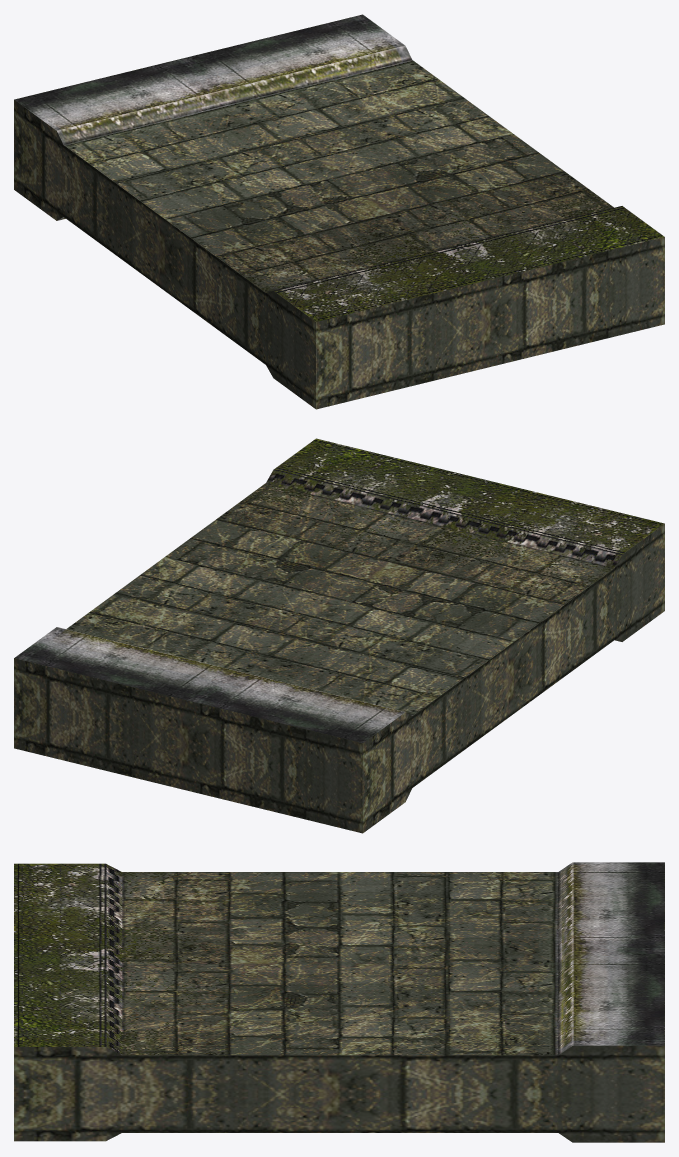
The model's file is Lab_WallLong.gltf.
3 renders of one model, top to bottom at view 1: azimuth 30°, elevation 25°; view 2: azimuth 150°, elevation 25°; view 3: azimuth 270°, elevation 25°, orthographic. The views are drawn at different scales.
Visible parts, largest first — view 1: Lab_WallLong; view 2: Lab_WallLong; view 3: Lab_WallLong.
Boxes of the visible parts, x1,y1,x2,y2 form: Lab_WallLong: [14, 14, 664, 409]; Lab_WallLong: [14, 438, 664, 833]; Lab_WallLong: [14, 862, 664, 1142].
Size of the model in its own units: 0.0325 by 0.00802 by 0.0488.
1 material, 1 textured.
